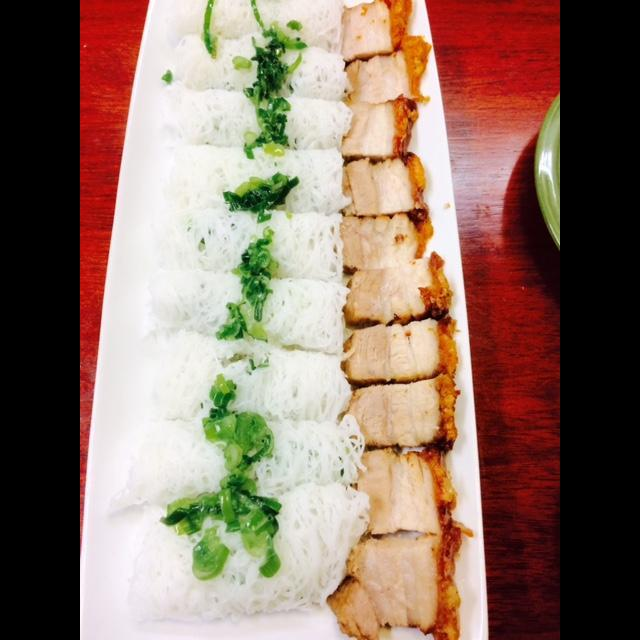banh hoi: (117, 473, 377, 628), (103, 409, 371, 528), (129, 317, 359, 433), (132, 257, 355, 364), (147, 131, 356, 223), (148, 197, 352, 290), (143, 77, 361, 161), (162, 26, 356, 110), (158, 1, 352, 54)
banh hoi heo quay: (105, 39, 525, 640)
thit heo quay: (320, 519, 476, 640), (336, 437, 461, 547), (337, 368, 467, 461), (334, 246, 460, 334), (332, 313, 468, 392), (326, 200, 439, 277), (332, 29, 435, 113), (331, 144, 436, 222), (331, 87, 424, 165), (327, 1, 419, 66)
